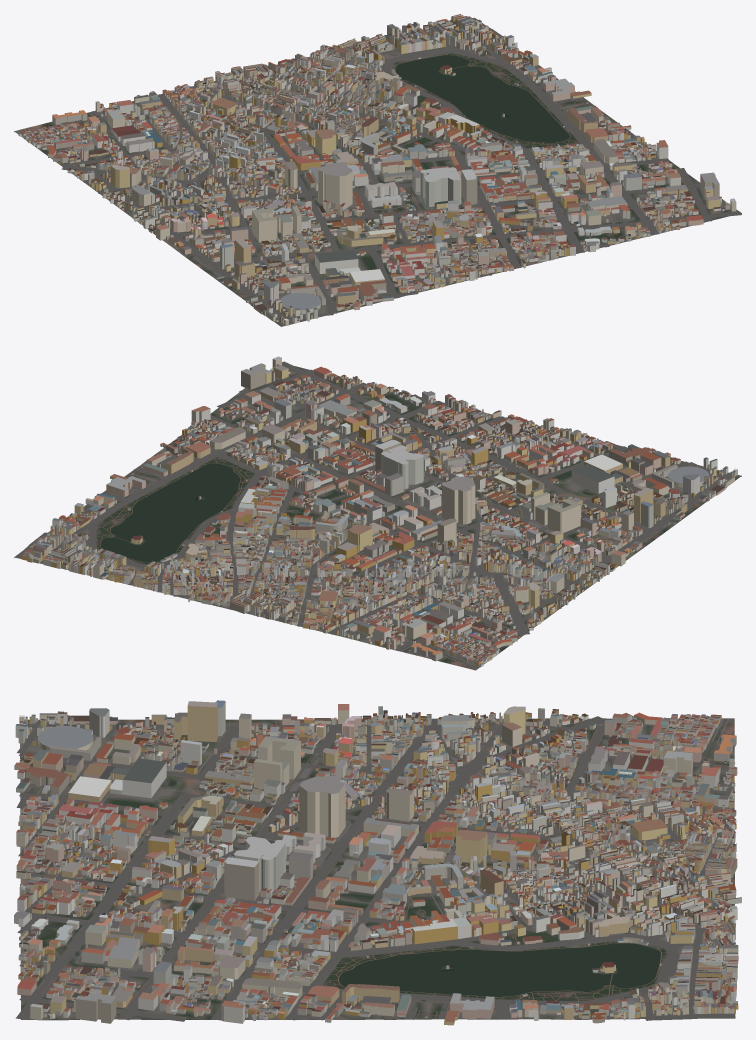
The picture shows the model from 3 angles, top to bottom: view 1: azimuth 30°, elevation 25°; view 2: azimuth 150°, elevation 25°; view 3: azimuth 270°, elevation 25°; orthographic projection. The views are drawn at different scales.
Visible parts, largest first — view 1: buildings, roads, ground, water; view 2: buildings, roads, ground, water; view 3: buildings, roads, ground, water.
Part boxes in pixels (x1,y1,x2,y2): buildings: [18, 14, 736, 325]; roads: [16, 18, 741, 324]; ground: [14, 17, 741, 326]; water: [395, 55, 570, 143]; buildings: [21, 356, 737, 667]; roads: [15, 361, 729, 668]; ground: [14, 366, 741, 670]; water: [100, 463, 590, 562]; buildings: [14, 700, 741, 1025]; roads: [15, 716, 735, 1021]; ground: [20, 718, 735, 1020]; water: [168, 781, 660, 996].
Bounding box in the file's own units: 1438 × 101 × 1428.
